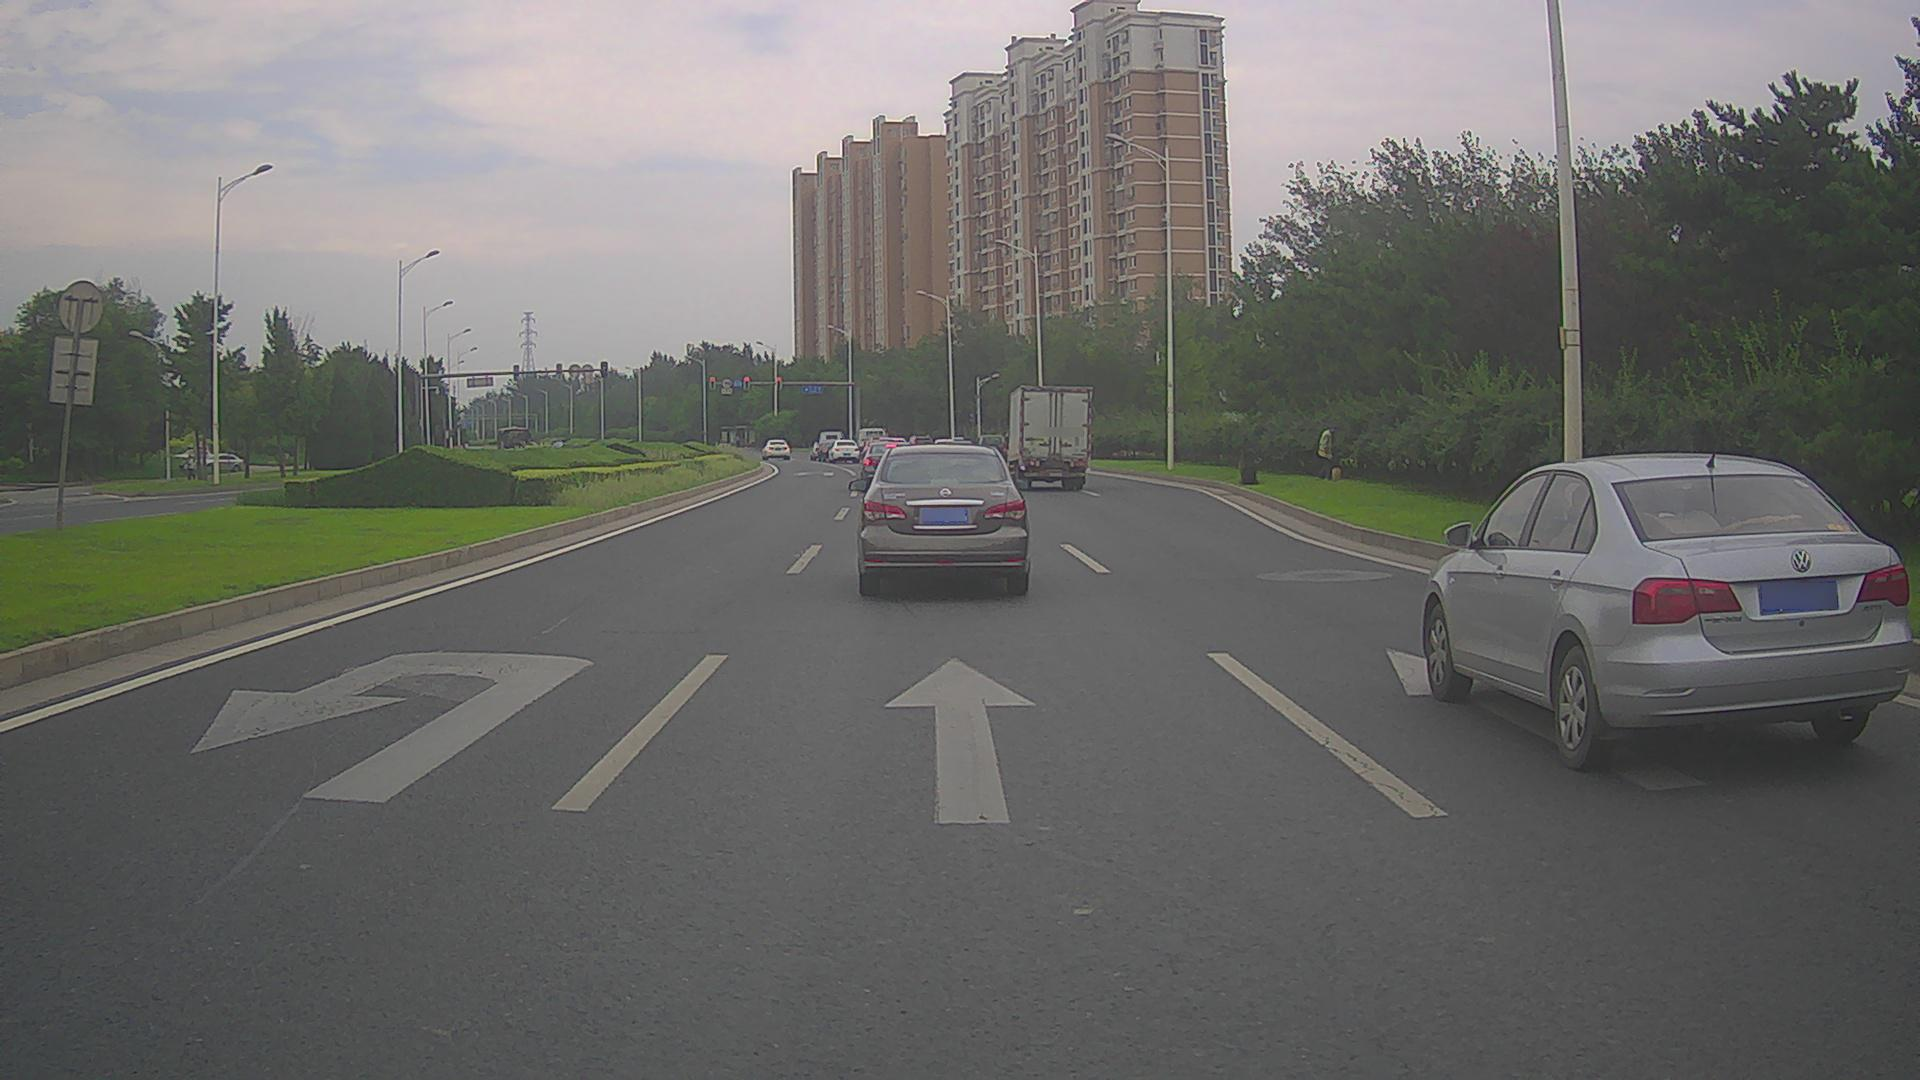bus: (496, 426, 531, 461)
car: (1420, 452, 1911, 770), (848, 443, 1030, 594), (861, 442, 913, 482), (198, 452, 246, 472), (977, 434, 1007, 461), (827, 439, 860, 463), (761, 438, 790, 460), (908, 435, 933, 457)
ignore: (857, 427, 906, 456), (809, 430, 841, 461), (173, 448, 210, 458)
pedestrian: (1317, 422, 1335, 482), (186, 455, 196, 480), (735, 432, 740, 447)
truck: (1002, 385, 1093, 490)
